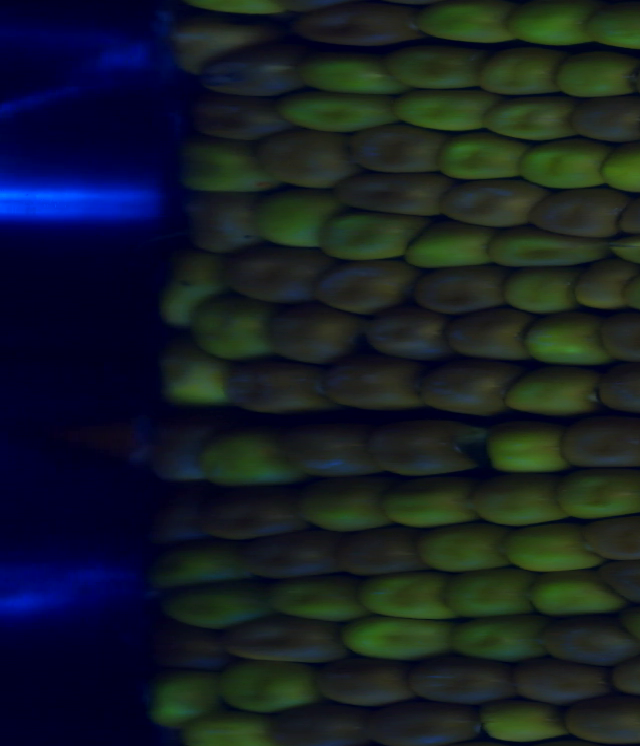fluorescent: (356, 570, 459, 626), (322, 206, 420, 262), (541, 47, 639, 102), (279, 92, 404, 135), (502, 370, 607, 420), (220, 659, 315, 714), (172, 140, 265, 196), (192, 294, 272, 357), (476, 425, 570, 476), (259, 189, 337, 250), (401, 89, 492, 141), (389, 480, 479, 531), (490, 233, 604, 273), (524, 137, 608, 191), (198, 433, 285, 485), (389, 46, 482, 94), (438, 133, 519, 188), (420, 1, 526, 43), (508, 1, 592, 54), (164, 26, 248, 77), (483, 50, 567, 100), (483, 100, 578, 144), (500, 269, 579, 321), (267, 577, 357, 622), (475, 702, 567, 746), (530, 317, 605, 370), (146, 546, 242, 587), (424, 528, 504, 577), (344, 618, 452, 654), (467, 484, 560, 525), (309, 55, 393, 100), (560, 473, 640, 520), (455, 574, 530, 624), (405, 225, 494, 267), (157, 246, 208, 318), (450, 622, 541, 662), (508, 533, 600, 572), (537, 569, 616, 614), (152, 672, 223, 722), (159, 347, 222, 402), (167, 589, 260, 626), (304, 484, 383, 526), (585, 1, 640, 51), (187, 713, 261, 746), (597, 146, 640, 202), (201, 1, 290, 22), (609, 232, 640, 269)
nonfluorescent: (407, 652, 527, 707), (281, 414, 379, 478), (407, 259, 512, 317), (231, 246, 329, 306), (379, 415, 471, 478), (298, 3, 420, 50), (322, 358, 423, 409), (208, 35, 298, 91), (430, 363, 518, 420), (192, 91, 287, 143), (230, 625, 338, 669), (365, 703, 483, 743), (344, 128, 442, 176), (185, 195, 263, 255), (253, 522, 338, 576), (538, 185, 627, 236), (207, 494, 297, 544), (312, 258, 409, 304), (511, 659, 616, 700), (267, 309, 353, 359), (229, 361, 315, 411), (561, 418, 640, 472), (265, 136, 346, 188), (271, 702, 362, 746), (318, 665, 419, 704), (339, 533, 426, 578), (444, 185, 538, 225), (565, 695, 640, 743), (157, 413, 208, 483), (546, 620, 638, 658), (448, 320, 531, 362), (353, 174, 438, 215), (368, 309, 439, 358), (163, 628, 233, 676), (593, 362, 640, 421), (570, 96, 639, 136), (155, 491, 208, 543), (586, 517, 640, 562), (596, 315, 640, 363), (600, 557, 640, 598)
